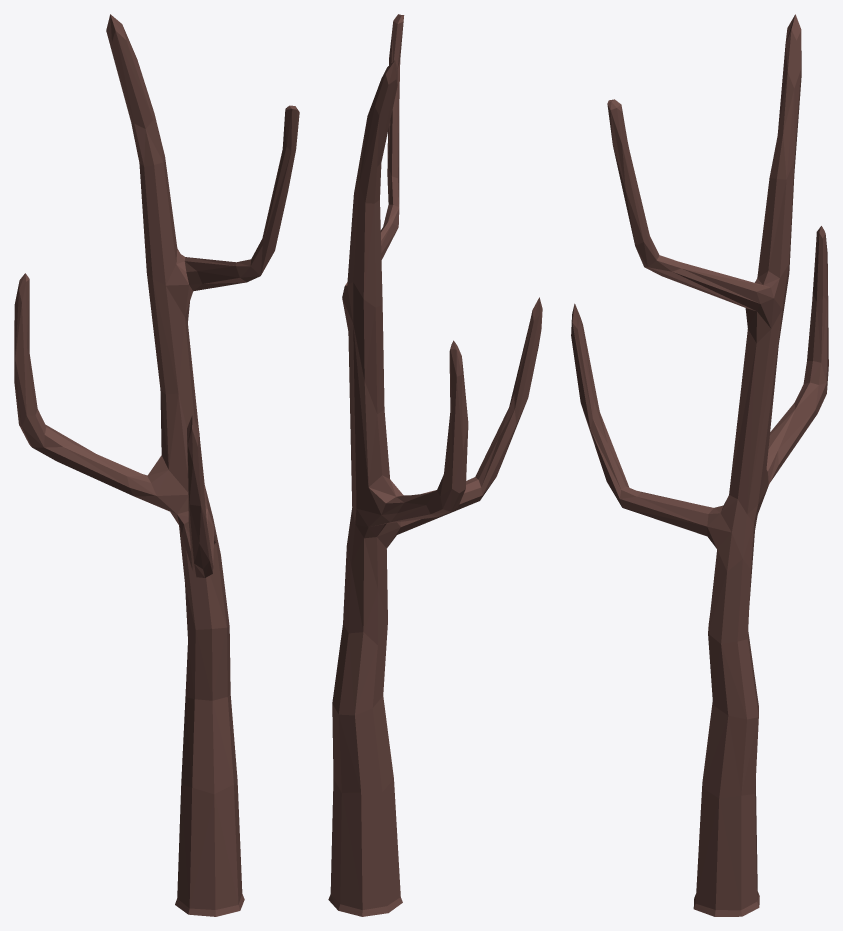
Rendered from CommonTree_Dead_3.lod1.glb.
3 renders of one model, left to right at view 1: azimuth 30°, elevation 25°; view 2: azimuth 150°, elevation 25°; view 3: azimuth 270°, elevation 25°, orthographic. The views are drawn at different scales.
Parts seen in each view (by area): view 1: CommonTree_Dead_3; view 2: CommonTree_Dead_3; view 3: CommonTree_Dead_3.
Part boxes in pixels (x1,y1,x2,y2): CommonTree_Dead_3: [14, 14, 299, 916]; CommonTree_Dead_3: [328, 14, 542, 916]; CommonTree_Dead_3: [571, 14, 828, 916].
Bounding box in the file's own units: 0.6381 × 3 × 0.8146.
